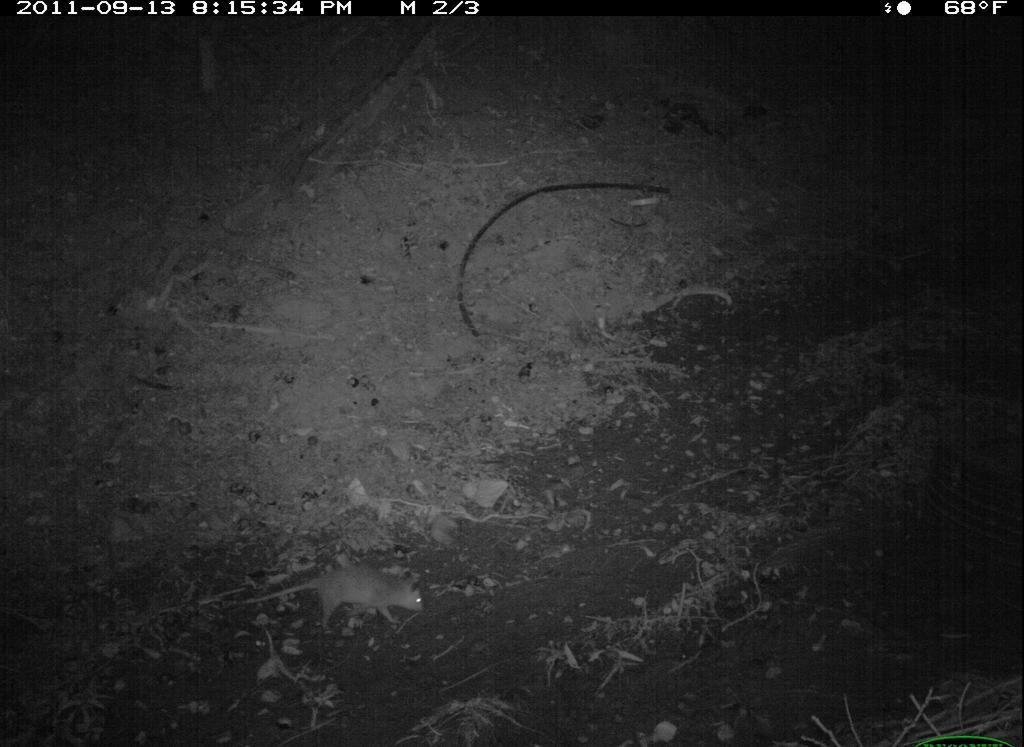opossum: (235, 559, 428, 639)
